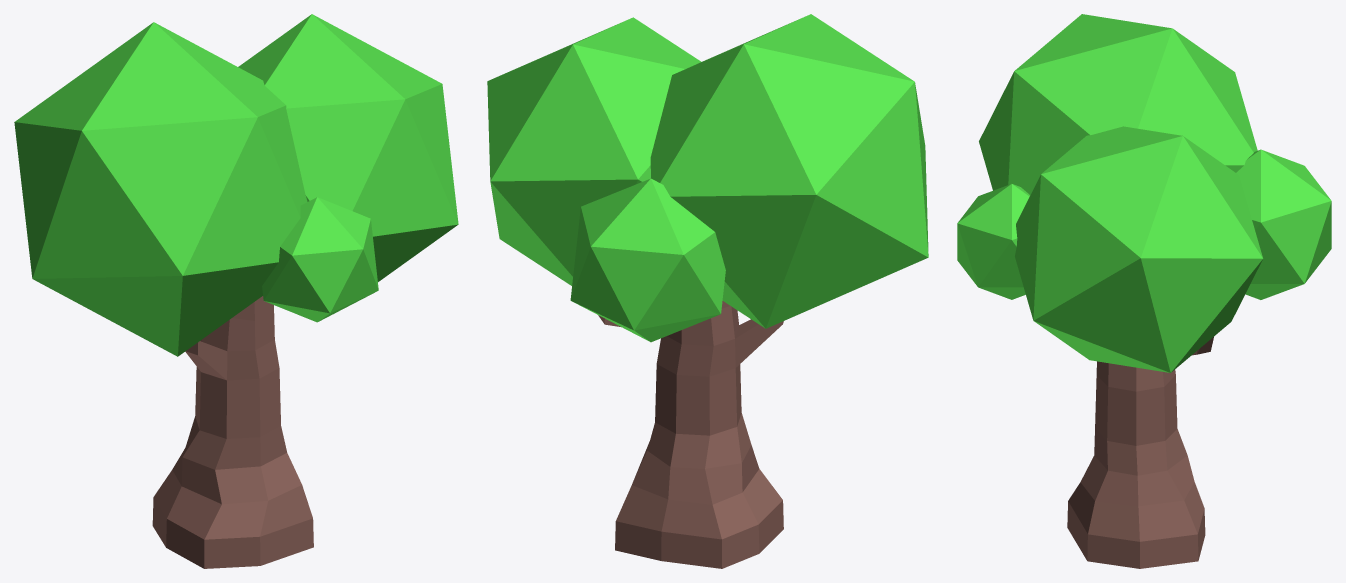
The model's file is tree.fbx.
3 renders of one model, left to right at view 1: azimuth 30°, elevation 25°; view 2: azimuth 150°, elevation 25°; view 3: azimuth 270°, elevation 25°, orthographic. The views are drawn at different scales.
Parts seen in each view (by area): view 1: Arbre; view 2: Arbre; view 3: Arbre.
Boxes of the visible parts, box(x1,y1,x2,y2) form: Arbre: box(14, 14, 458, 568); Arbre: box(487, 14, 928, 568); Arbre: box(957, 14, 1331, 568).
Bounding box in the file's own units: 1023 × 1198 × 844.
